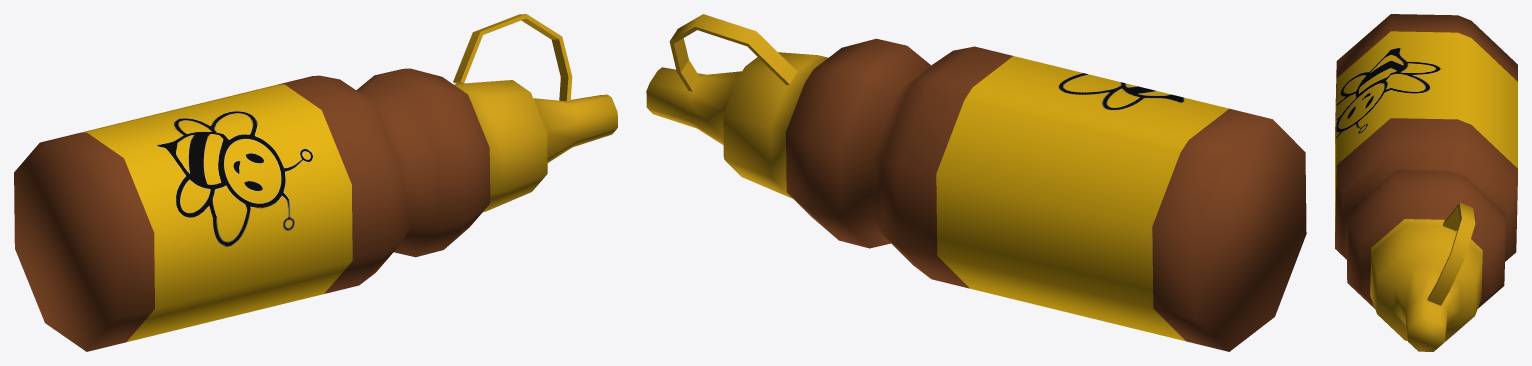
File: mel1.1.fbx
The picture shows the model from 3 angles, left to right: view 1: azimuth 30°, elevation 25°; view 2: azimuth 150°, elevation 25°; view 3: azimuth 270°, elevation 25°; orthographic projection. The views are drawn at different scales.
Parts seen in each view (by area): view 1: Circle.005; view 2: Circle.005; view 3: Circle.005.
Boxes of the visible parts, box(x1,y1,x2,y2) form: Circle.005: box(14, 14, 617, 351); Circle.005: box(646, 14, 1306, 351); Circle.005: box(1335, 14, 1517, 351).
Size of the model in its own units: 73.04 by 24.64 by 23.66.
1 material, 1 textured.
